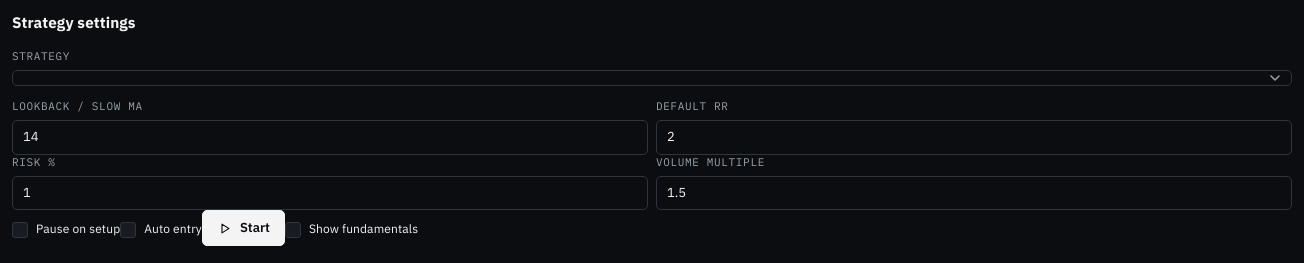
Test: Milestone 4 Empirical Adversarial Challenge Suite › 1. Checkbox Interactions & State Machine Stress Testing › handles StrategyPanel checkbox toggles in Catalog Strategy mode
The image size is (1304, 263).
Later steps or results of the test are not shown.
// Toggle pause on setup when autoEntry is off
Click the checkbox labelled "Pause on setup" at (66, 230), box top-left (12, 221), bottom-right (120, 238)
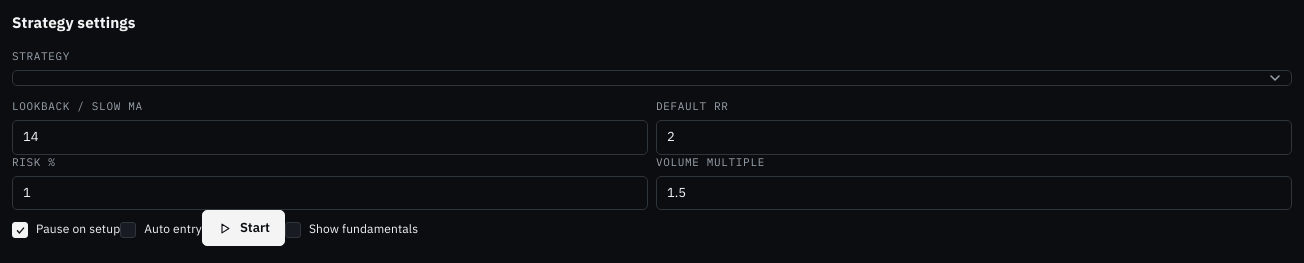
Click the checkbox labelled "Auto entry" at (161, 230), box top-left (120, 221), bottom-right (202, 238)
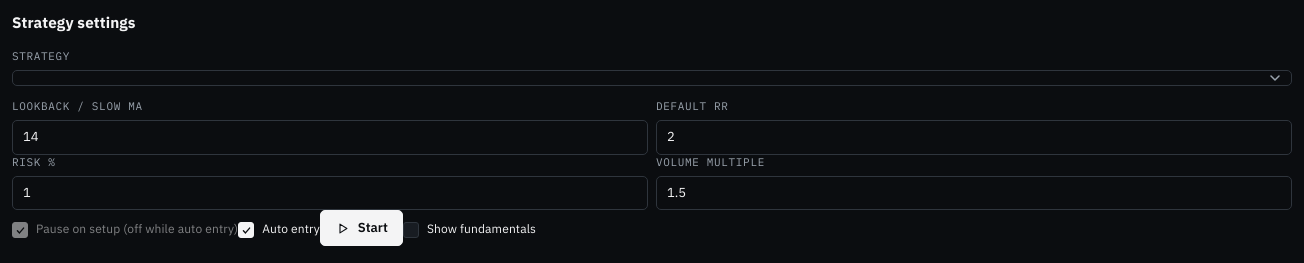
Check: the checkbox labelled "Pause on setup (off while auto entry)" is disabled, box top-left (12, 221), bottom-right (238, 238)
